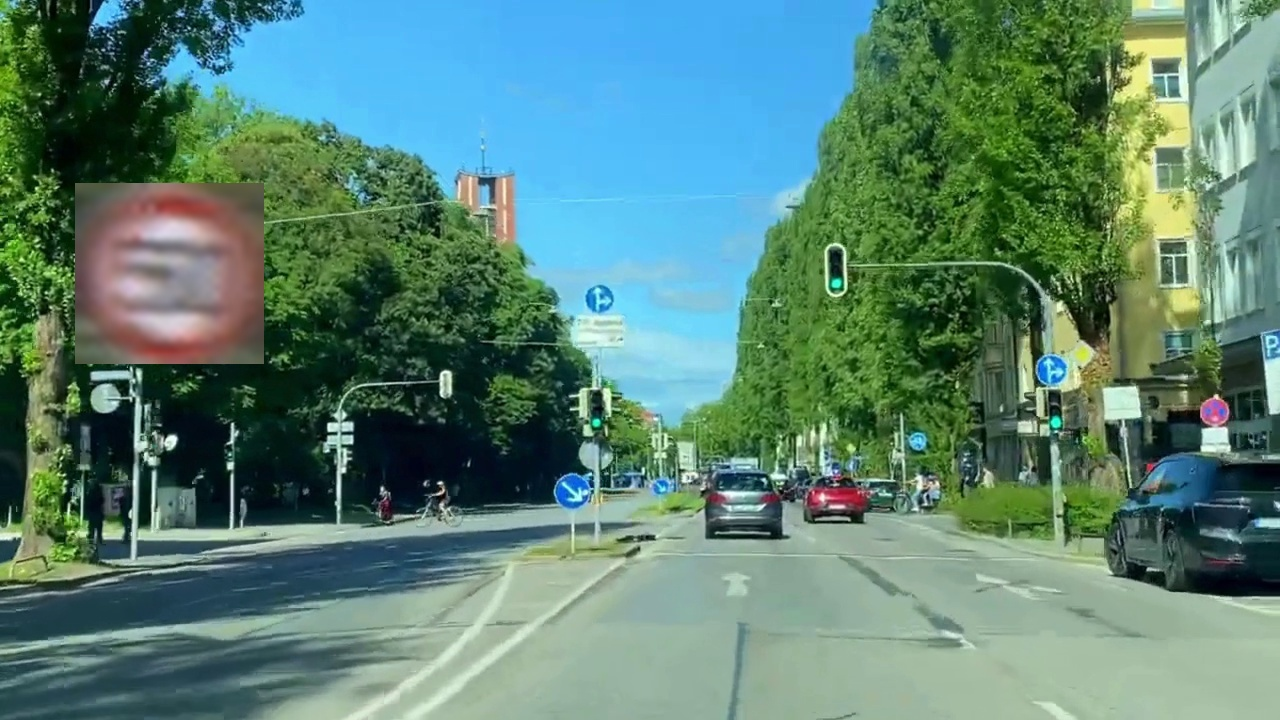Speed 50: (75, 183, 264, 364)
